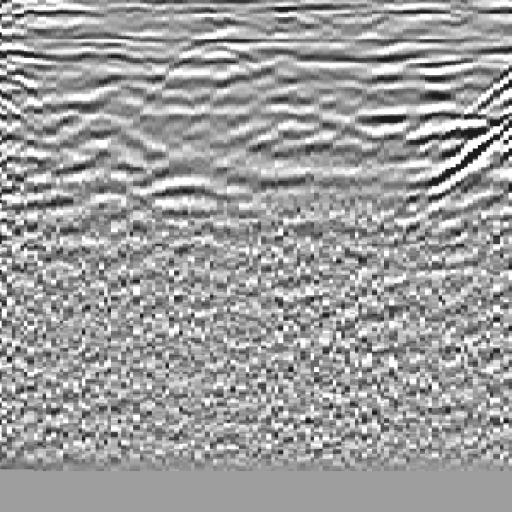metalic: (152, 41, 324, 260)
nonmetalic: (392, 46, 512, 256)
